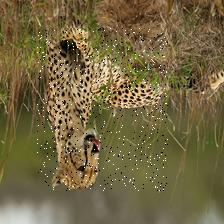Cheetha: (36, 28, 167, 191)
